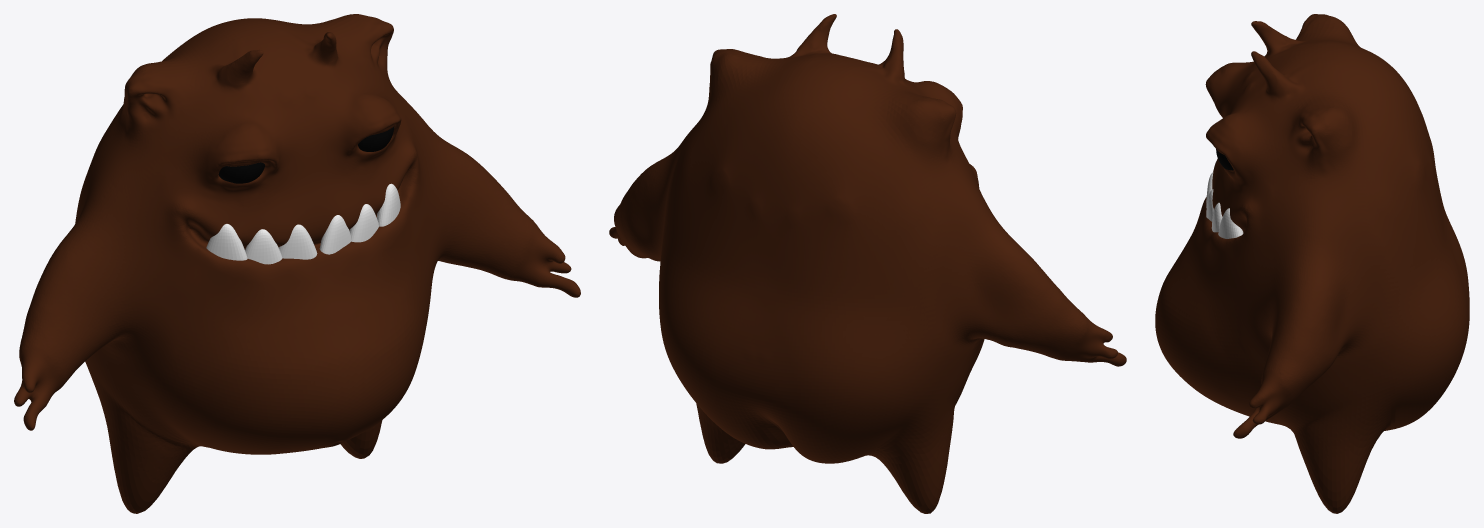
File: escultura-personaje-fantasia.glb
The picture shows the model from 3 angles, left to right: view 1: azimuth 30°, elevation 25°; view 2: azimuth 150°, elevation 25°; view 3: azimuth 270°, elevation 25°; orthographic projection. The views are drawn at different scales.
Visible parts, largest first — view 1: Quad Sphere, Cube.001, Cube, Cube.002, Sphere; view 2: Quad Sphere; view 3: Quad Sphere, Cube.
Boxes of the visible parts, <box> form: Quad Sphere: <box>14,14,580,513</box>; Cube.001: <box>278,215,351,259</box>; Cube: <box>206,183,400,260</box>; Cube.002: <box>245,204,378,264</box>; Sphere: <box>218,126,394,183</box>; Quad Sphere: <box>609,14,1126,513</box>; Quad Sphere: <box>1155,14,1469,513</box>; Cube: <box>1218,208,1243,238</box>.
Bounding box in the file's own units: 3.63 × 2.99 × 1.99.
